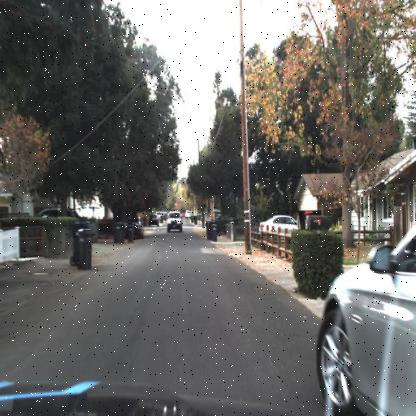car: (314, 208, 416, 415), (255, 212, 300, 236), (33, 204, 76, 228), (124, 214, 144, 239), (166, 211, 184, 231), (209, 207, 222, 221), (148, 214, 160, 228), (185, 209, 193, 220)
